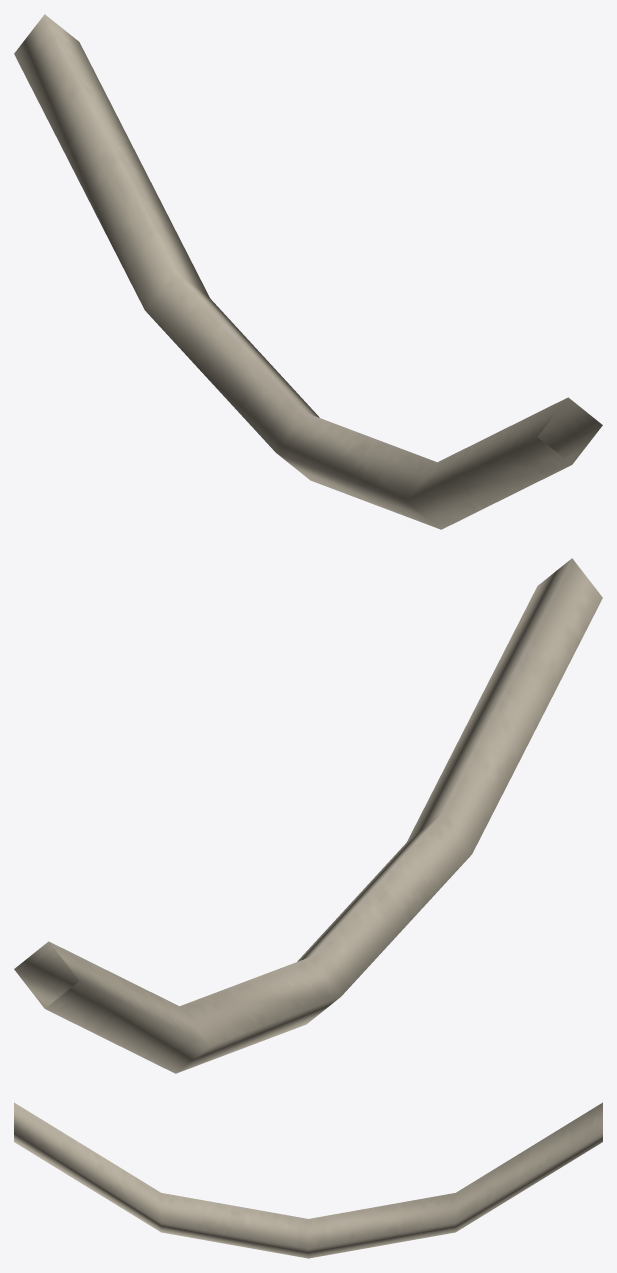
The model's file is 0170_T_ZhenYin_ShengSuo.glb.
3 views of the same model, one above another, from view 1: azimuth 30°, elevation 25°; view 2: azimuth 150°, elevation 25°; view 3: azimuth 270°, elevation 25° (orthographic). The views are drawn at different scales.
Size of the model in its own units: 0.1589 by 0.6394 by 2.2.
Materials: 1 (1 with a texture image).
